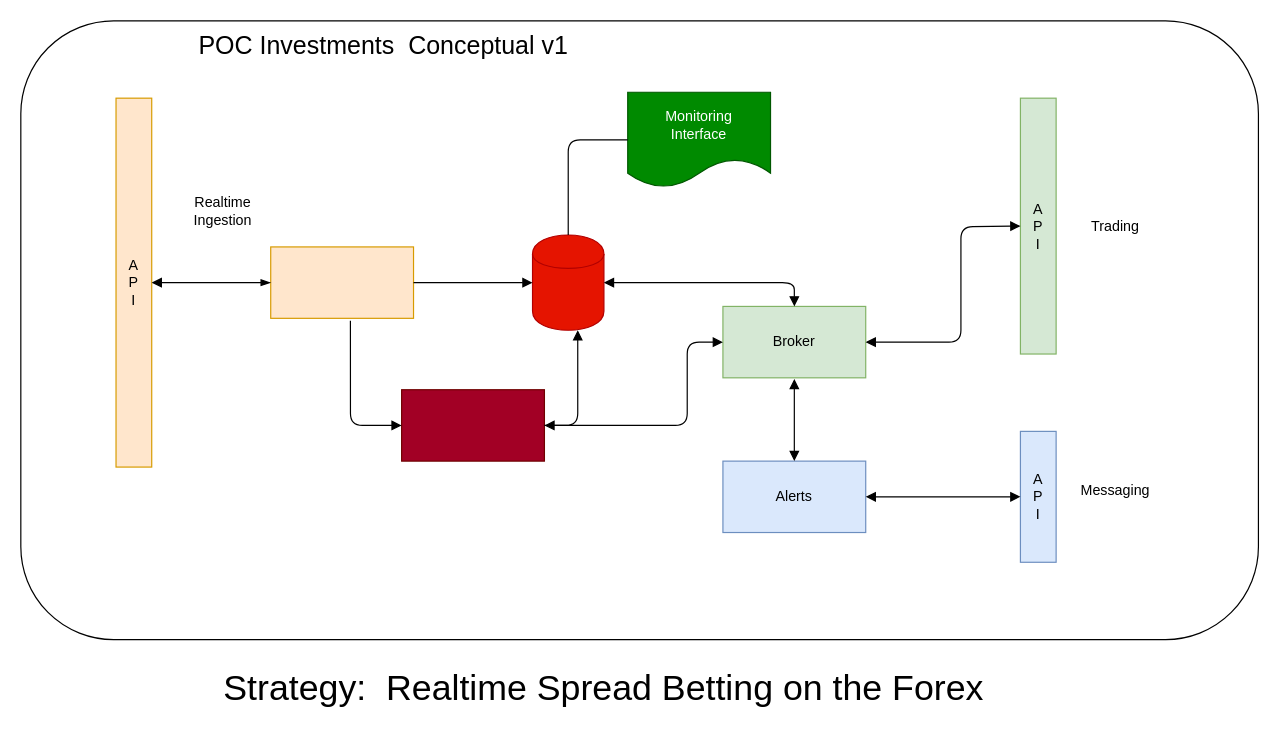
This 1279x729 diagram has some shape labels left out. Each missing label, with the centre of its shape:
Ingestion: point (342, 282)
Prediction: point (472, 425)
Storage: point (567, 282)
